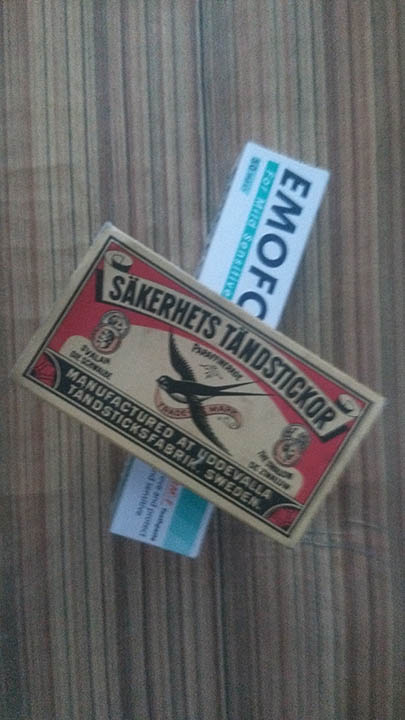Toothpaste-F 1.5$: (185, 125, 334, 326)
match-sticks .90$: (56, 234, 378, 525)
